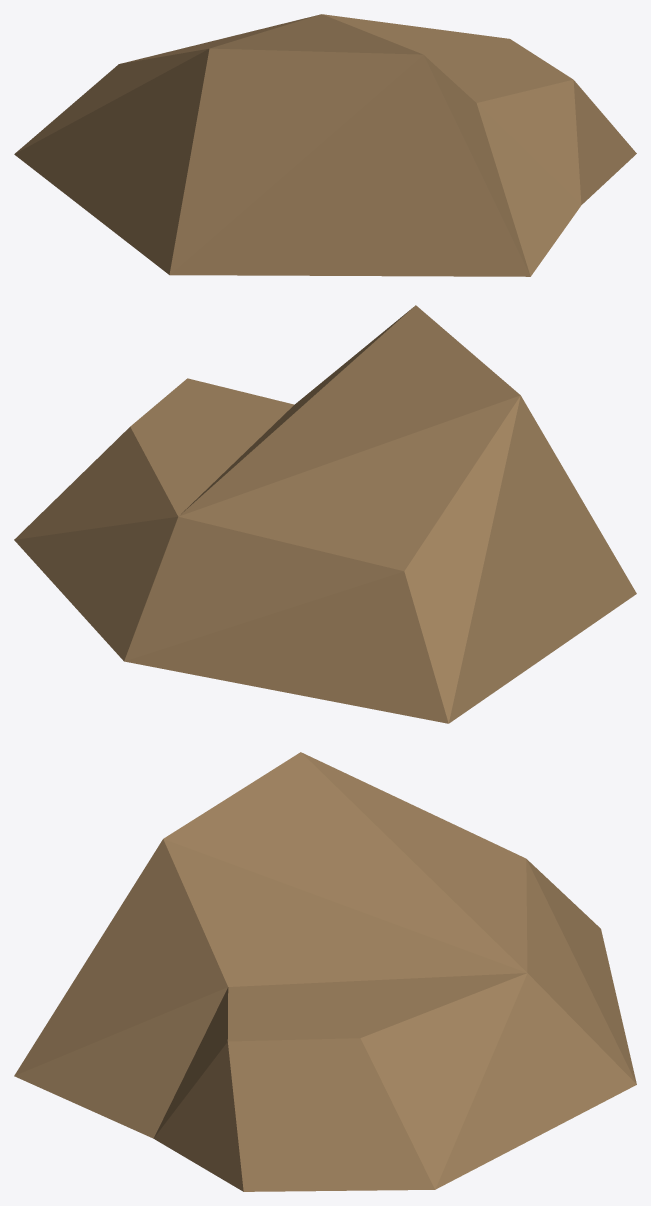
File: SM_Env_Pebble_05.gltf
3 views of the same model, one above another, from view 1: azimuth 30°, elevation 25°; view 2: azimuth 150°, elevation 25°; view 3: azimuth 270°, elevation 25° (orthographic). The views are drawn at different scales.
Visible parts, largest first — view 1: SM_Env_Pebble_05; view 2: SM_Env_Pebble_05; view 3: SM_Env_Pebble_05.
Boxes of the visible parts, bbox=[...] form: SM_Env_Pebble_05: bbox=[14, 14, 636, 276]; SM_Env_Pebble_05: bbox=[14, 305, 636, 723]; SM_Env_Pebble_05: bbox=[14, 752, 636, 1191].
Bounding box in the file's own units: 0.095 × 0.0354 × 0.0936.
Materials: 1 (1 with a texture image).
